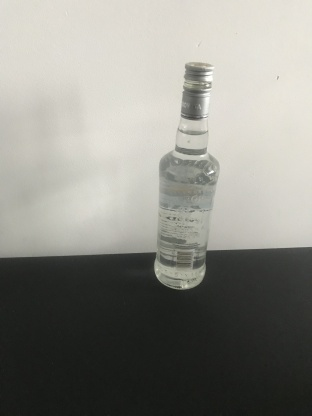nakretka: (179, 60, 215, 120)
